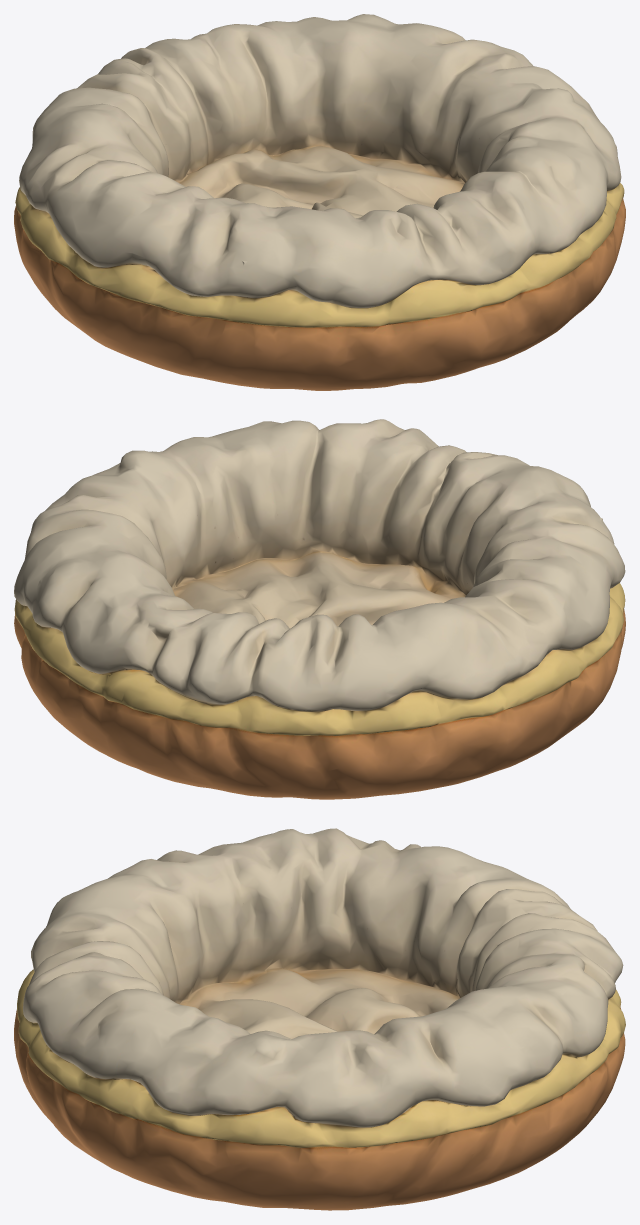
The model's file is dognest_h3.glb.
3 renders of one model, top to bottom at view 1: azimuth 30°, elevation 25°; view 2: azimuth 150°, elevation 25°; view 3: azimuth 270°, elevation 25°, orthographic.
Parts seen in each view (by area): view 1: tripo_node_1c82526c-df7f-4419-a505-ba26333dd2a7; view 2: tripo_node_1c82526c-df7f-4419-a505-ba26333dd2a7; view 3: tripo_node_1c82526c-df7f-4419-a505-ba26333dd2a7.
Part boxes in pixels (bbox=[...]): tripo_node_1c82526c-df7f-4419-a505-ba26333dd2a7: bbox=[14, 14, 625, 390]; tripo_node_1c82526c-df7f-4419-a505-ba26333dd2a7: bbox=[14, 419, 625, 799]; tripo_node_1c82526c-df7f-4419-a505-ba26333dd2a7: bbox=[14, 828, 625, 1210].
Bounding box in the file's own units: 1 × 0.3092 × 0.9973.
Materials: 1 (1 with a texture image).
